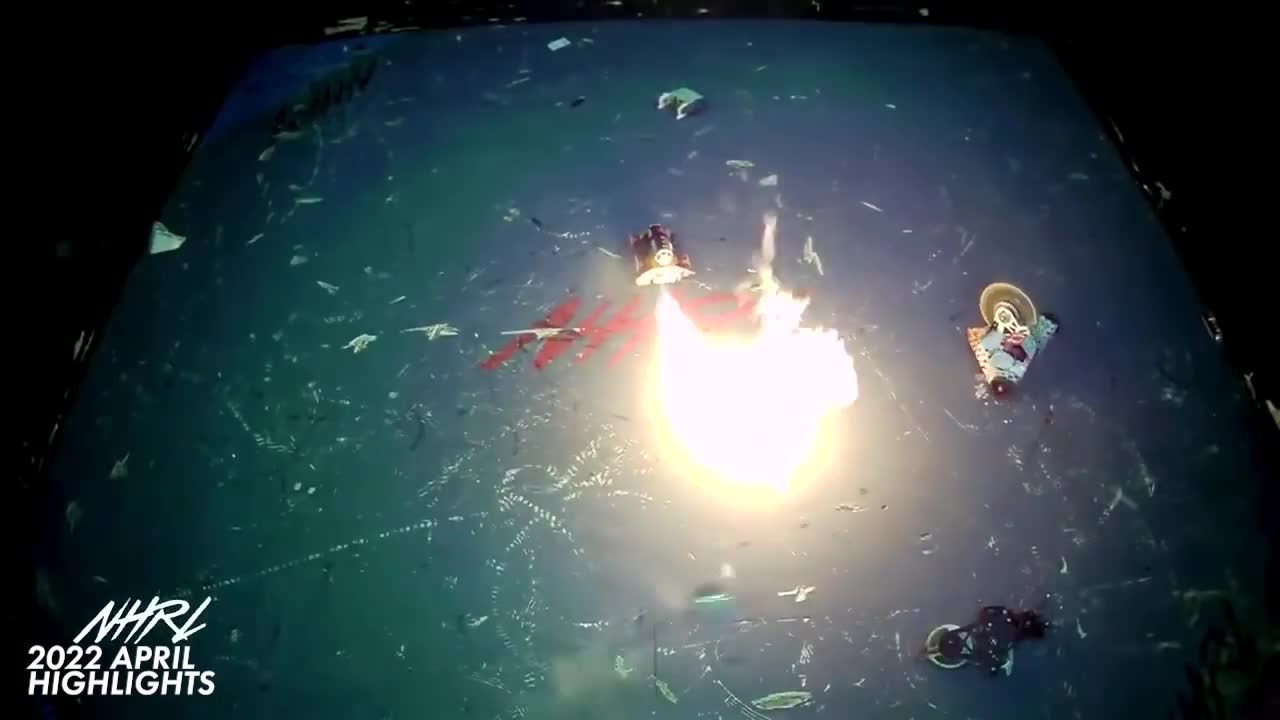combatbot: (961, 283, 1059, 400), (926, 603, 1049, 677), (628, 224, 696, 290), (652, 87, 707, 123)
